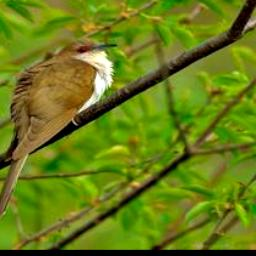Cuckoo: (0, 38, 119, 223)
